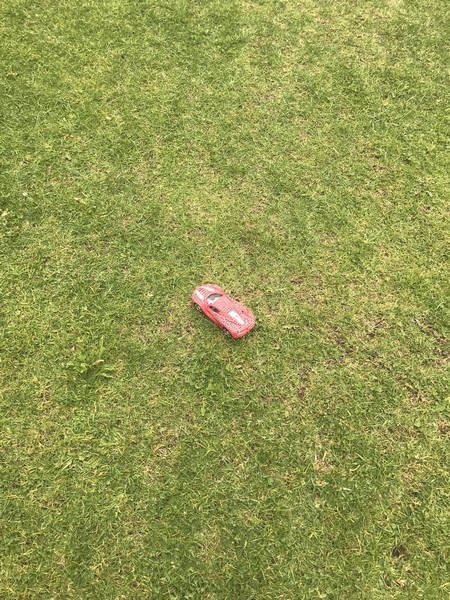RC: (189, 284, 260, 339)
